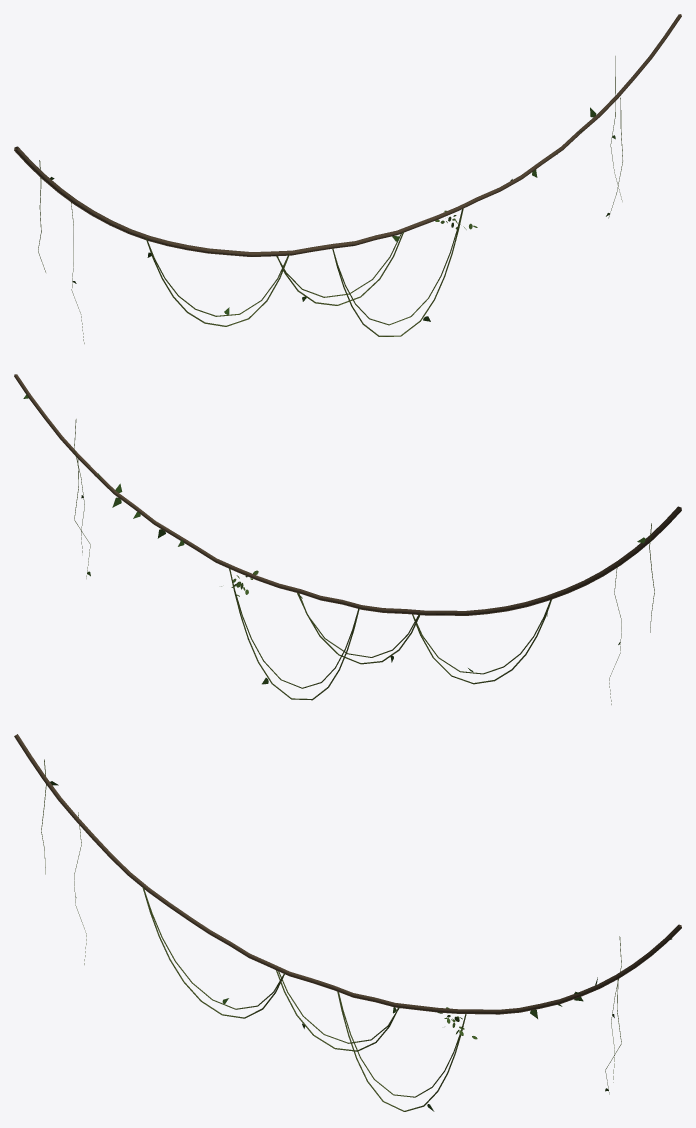
The model's file is liana_span_leafy_04_lod2.gltf.
3 renders of one model, top to bottom at view 1: azimuth 30°, elevation 25°; view 2: azimuth 150°, elevation 25°; view 3: azimuth 330°, elevation 25°, orthographic.
Visible parts, largest first — view 1: liana_span_leafy_04; view 2: liana_span_leafy_04; view 3: liana_span_leafy_04.
Part boxes in pixels (left/top/right/bottom): liana_span_leafy_04: left=14, top=14, right=681, bottom=343; liana_span_leafy_04: left=14, top=374, right=681, bottom=704; liana_span_leafy_04: left=14, top=734, right=681, bottom=1111.
Size of the model in its own units: 12.06 by 4.93 by 0.6269.
Materials: 3 (3 with a texture image).
